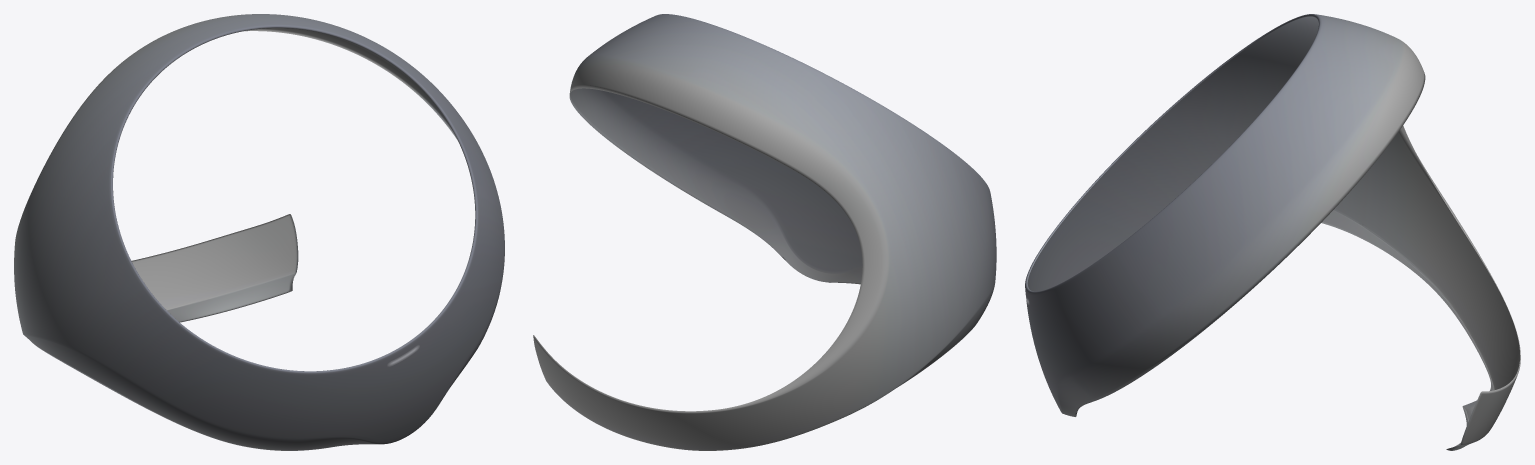
File: playstation_vr2_sense_left_body_outer.obj
The picture shows the model from 3 angles, left to right: view 1: azimuth 30°, elevation 25°; view 2: azimuth 150°, elevation 25°; view 3: azimuth 270°, elevation 25°; orthographic projection. The views are drawn at different scales.
Visible parts, largest first — view 1: mesh_sensecontroller_outer_L; view 2: mesh_sensecontroller_outer_L; view 3: mesh_sensecontroller_outer_L.
Part boxes in pixels (x1,y1,x2,y2): mesh_sensecontroller_outer_L: (14, 14, 504, 450); mesh_sensecontroller_outer_L: (533, 14, 996, 450); mesh_sensecontroller_outer_L: (1025, 14, 1520, 450).
Size of the model in its own units: 0.1283 by 0.1057 by 0.1275.
1 material, 1 textured.
